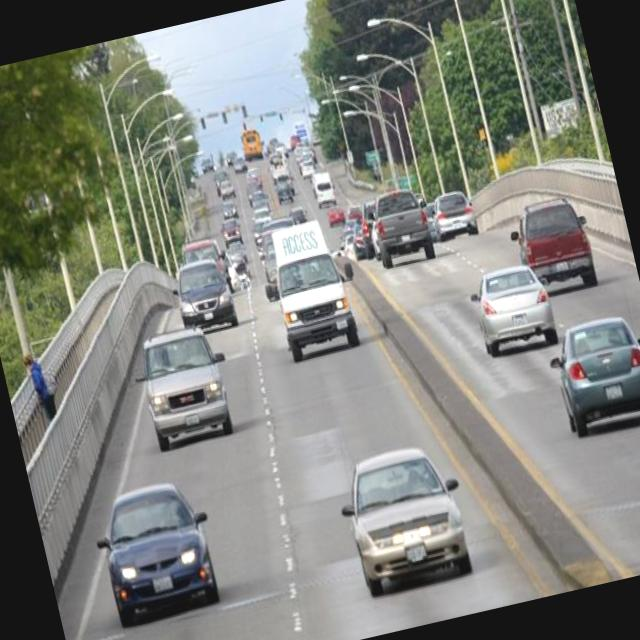Vehicle: (322, 406, 489, 609), (80, 455, 230, 633), (250, 213, 374, 370), (118, 310, 242, 456), (545, 307, 640, 443), (454, 247, 562, 364), (524, 186, 612, 292), (366, 184, 440, 274), (170, 257, 238, 313), (428, 178, 482, 242)
